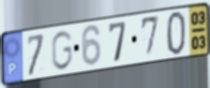0: (165, 10, 187, 57)
6: (80, 23, 104, 70)
7: (140, 14, 162, 60), (107, 20, 129, 64), (27, 32, 46, 78)
G: (50, 29, 74, 72)
